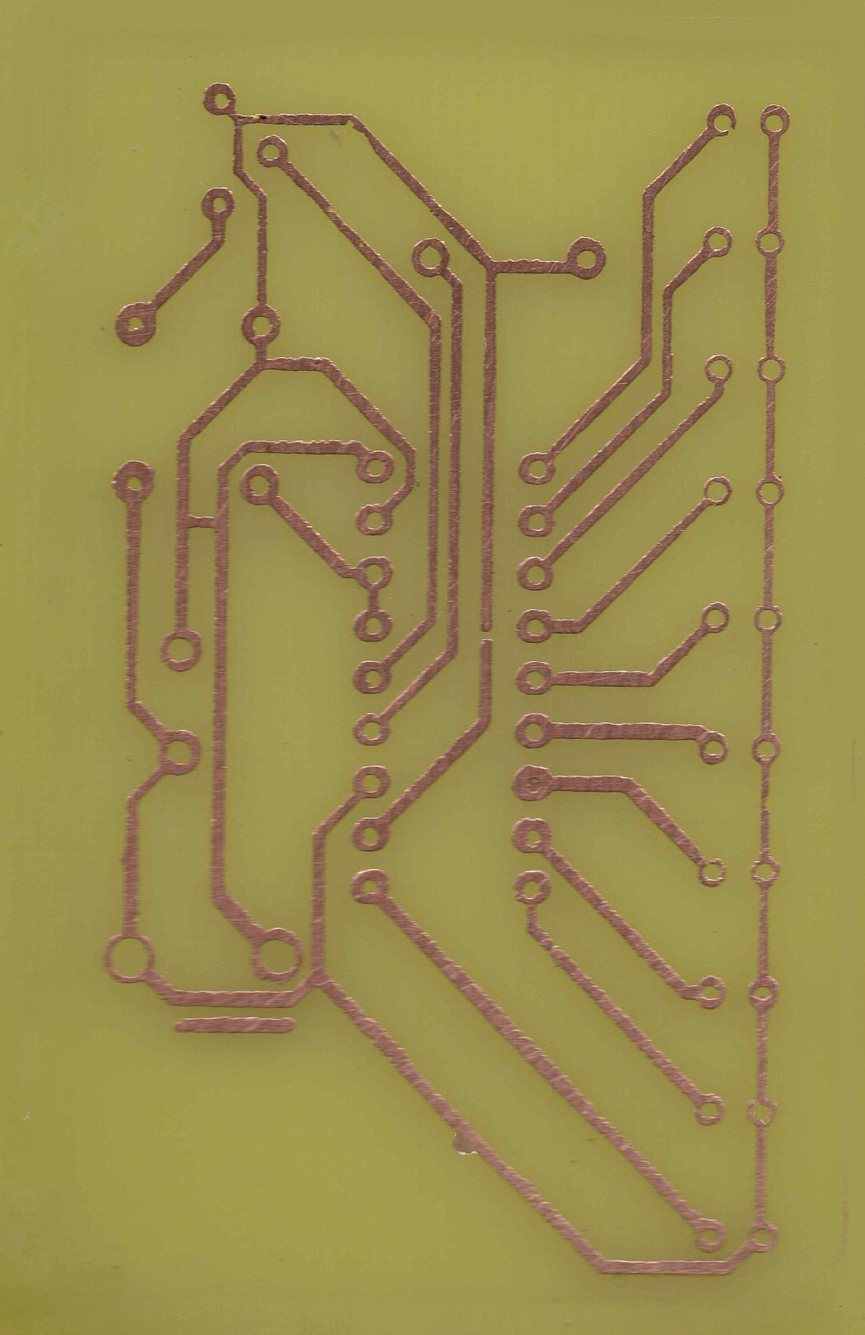missing_hole: (702, 99, 738, 138), (744, 1092, 780, 1130)
open_circuit: (476, 618, 496, 652)
short: (170, 502, 233, 539)
spur: (447, 1116, 482, 1160)
spurious_copper: (168, 1013, 298, 1039)
